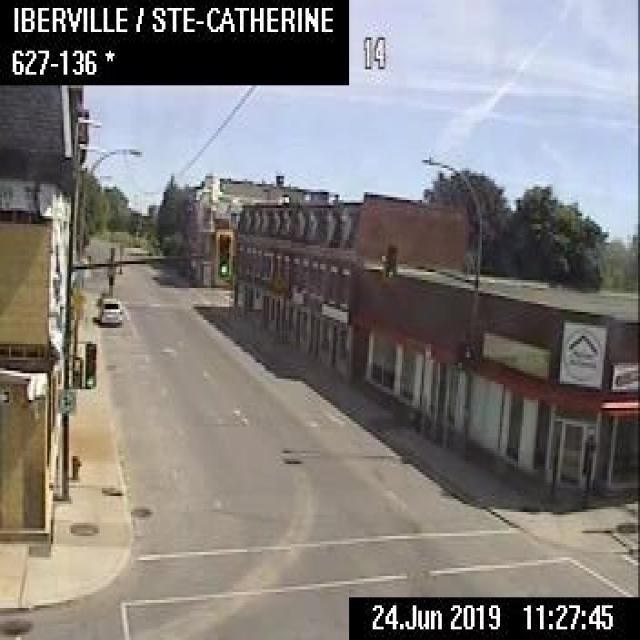vehicle: (98, 296, 124, 323)
